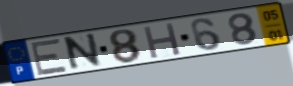6: (189, 17, 224, 53)
8: (108, 27, 144, 65), (226, 12, 259, 47)
E: (30, 37, 70, 77)
H: (142, 21, 184, 61)
N: (64, 31, 104, 74)
